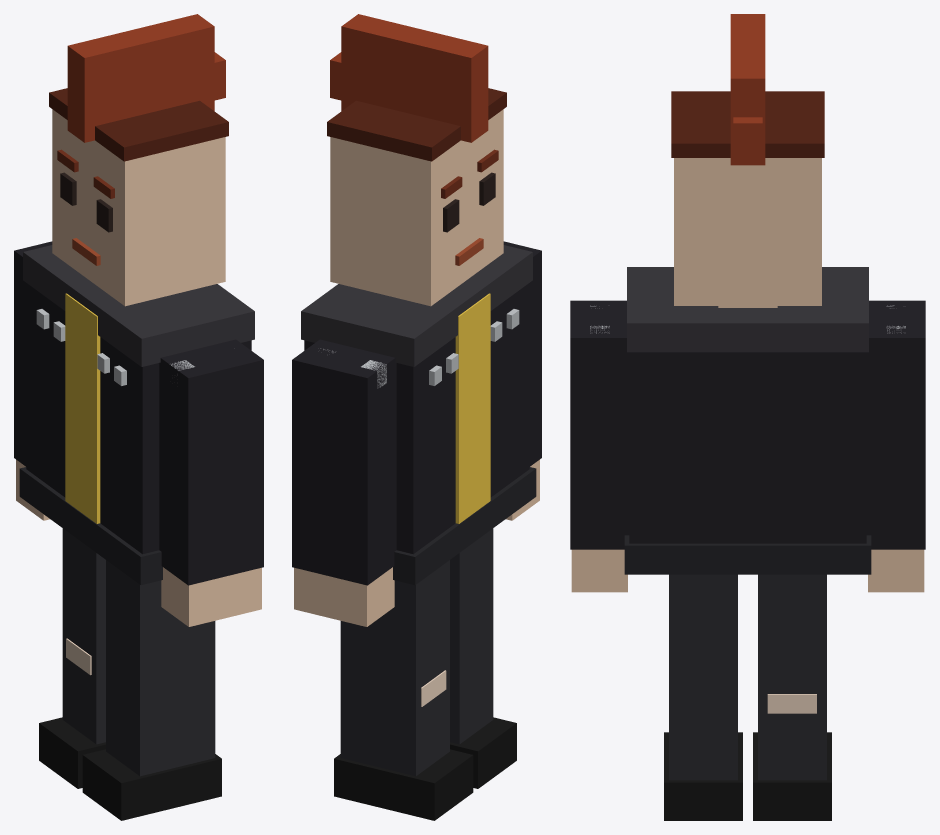
The model's file is skate_shop.glb.
3 views of the same model, side by side, from view 1: azimuth 30°, elevation 25°; view 2: azimuth 150°, elevation 25°; view 3: azimuth 270°, elevation 25° (orthographic). The views are drawn at different scales.
Parts seen in each view (by area): view 1: Box3, Box23, Box1, Box14, Box30, Box16, Box7, Box15, Box2, Box29, Box21, Box6 (+4 smaller); view 2: Box10, Box23, Box7, Box14, Box30, Box16, Box1, Box15, Box9, Box29, Box21, Box13 (+4 smaller); view 3: Box14, Box23, Box16, Box10, Box3, Box1, Box7, Box29, Box21, Box30, Box2, Box9 (+4 smaller).
Boxes of the visible parts, bbox=[...] form: Box3: bbox=[159, 339, 263, 585]; Box23: bbox=[52, 109, 225, 306]; Box1: bbox=[106, 560, 215, 776]; Box14: bbox=[26, 283, 251, 554]; Box30: bbox=[67, 14, 214, 142]; Box16: bbox=[23, 245, 254, 366]; Box7: bbox=[62, 528, 105, 744]; Box15: bbox=[65, 293, 100, 523]; Box2: bbox=[82, 749, 221, 820]; Box29: bbox=[49, 88, 228, 161]; Box21: bbox=[19, 467, 162, 585]; Box6: bbox=[161, 567, 261, 626]; Box10: bbox=[292, 339, 396, 585]; Box23: bbox=[330, 109, 503, 306]; Box7: bbox=[340, 560, 449, 776]; Box14: bbox=[304, 283, 529, 554]; Box30: bbox=[341, 14, 488, 142]; Box16: bbox=[301, 245, 532, 366]; Box1: bbox=[450, 528, 493, 744]; Box15: bbox=[455, 293, 490, 523]; Box9: bbox=[334, 749, 473, 820]; Box29: bbox=[327, 88, 506, 161]; Box21: bbox=[393, 467, 536, 585]; Box13: bbox=[294, 567, 394, 626]; Box14: bbox=[629, 352, 866, 543]; Box23: bbox=[674, 158, 821, 305]; Box16: bbox=[627, 267, 868, 352]; Box10: bbox=[866, 300, 925, 549]; Box3: bbox=[570, 300, 629, 549]; Box1: bbox=[669, 574, 737, 780]; Box7: bbox=[758, 574, 826, 780]; Box29: bbox=[671, 91, 824, 157]; Box21: bbox=[624, 535, 871, 574]; Box30: bbox=[730, 14, 765, 165]; Box2: bbox=[664, 732, 742, 820]; Box9: bbox=[753, 732, 831, 820].
Size of the model in its own units: 0.3856 by 1.91 by 0.8165.
